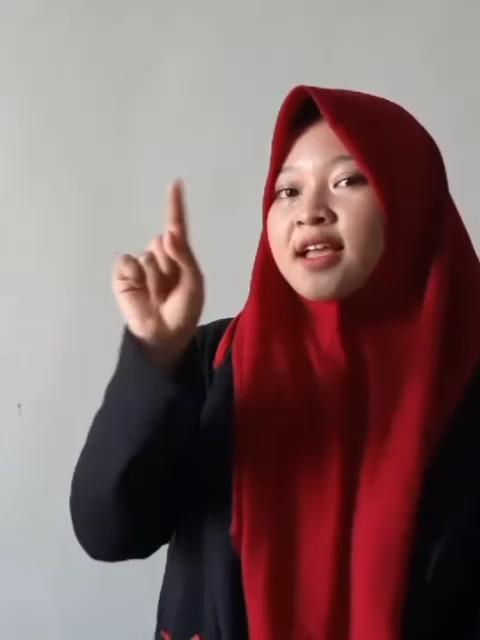Z: (104, 175, 206, 343)
